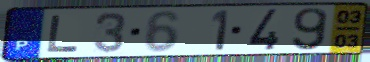1: (210, 9, 231, 53)
3: (92, 11, 129, 55)
4: (246, 8, 281, 53)
6: (141, 9, 182, 55)
9: (291, 7, 330, 52)
L: (45, 14, 83, 54)
